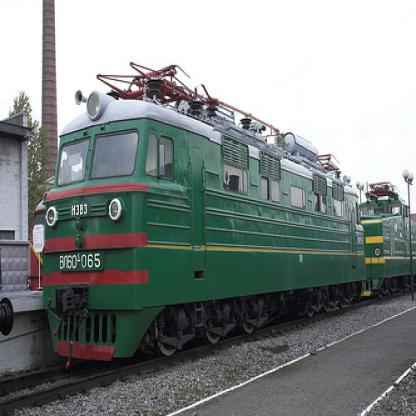train: (42, 60, 415, 365)
